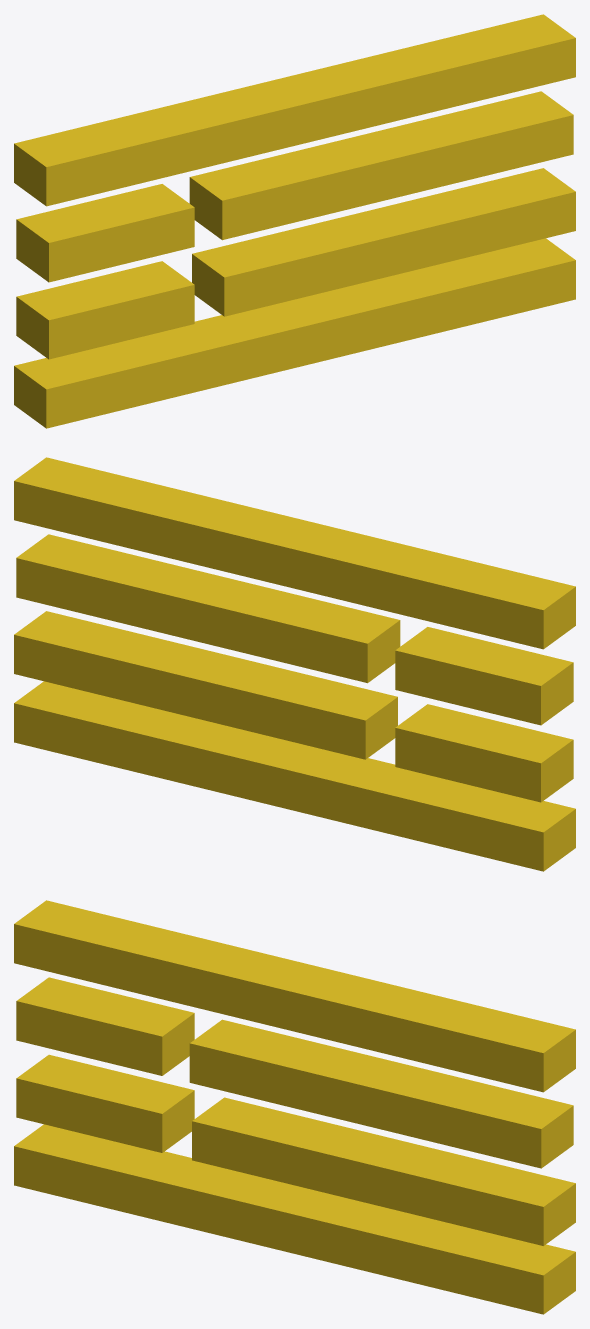
3 renders of one model, top to bottom at view 1: azimuth 30°, elevation 25°; view 2: azimuth 150°, elevation 25°; view 3: azimuth 330°, elevation 25°, orthographic.
Visible parts, largest first — view 1: Curve.006; view 2: Curve.006; view 3: Curve.006.
Part boxes in pixels (x1,y1,x2,y2): Curve.006: [14, 14, 575, 428]; Curve.006: [14, 457, 575, 871]; Curve.006: [14, 900, 575, 1314].
Size of the model in its own units: 0.0944 by 0.0445 by 0.01.
